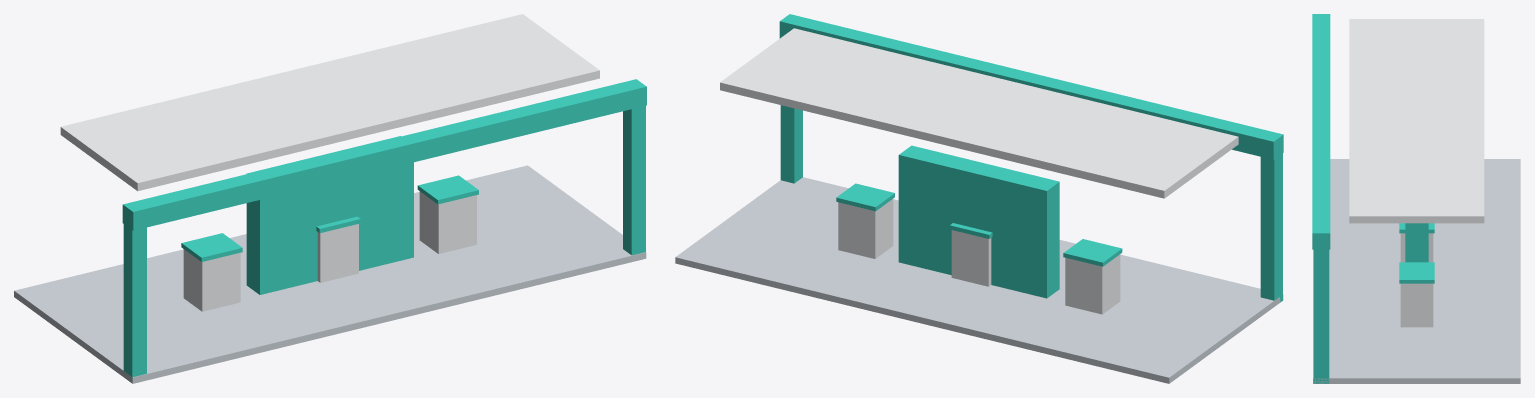
The picture shows the model from 3 angles, left to right: view 1: azimuth 30°, elevation 25°; view 2: azimuth 150°, elevation 25°; view 3: azimuth 270°, elevation 25°; orthographic projection. The views are drawn at different scales.
Visible parts, largest first — view 1: Exhibition Booth Concept; view 2: Exhibition Booth Concept; view 3: Exhibition Booth Concept.
Boxes of the visible parts, x1,y1,x2,y2 form: Exhibition Booth Concept: (14,14,646,383); Exhibition Booth Concept: (675,14,1283,383); Exhibition Booth Concept: (1312,14,1520,383).
Bounding box in the file's own units: 10 × 3.34 × 4.02.
